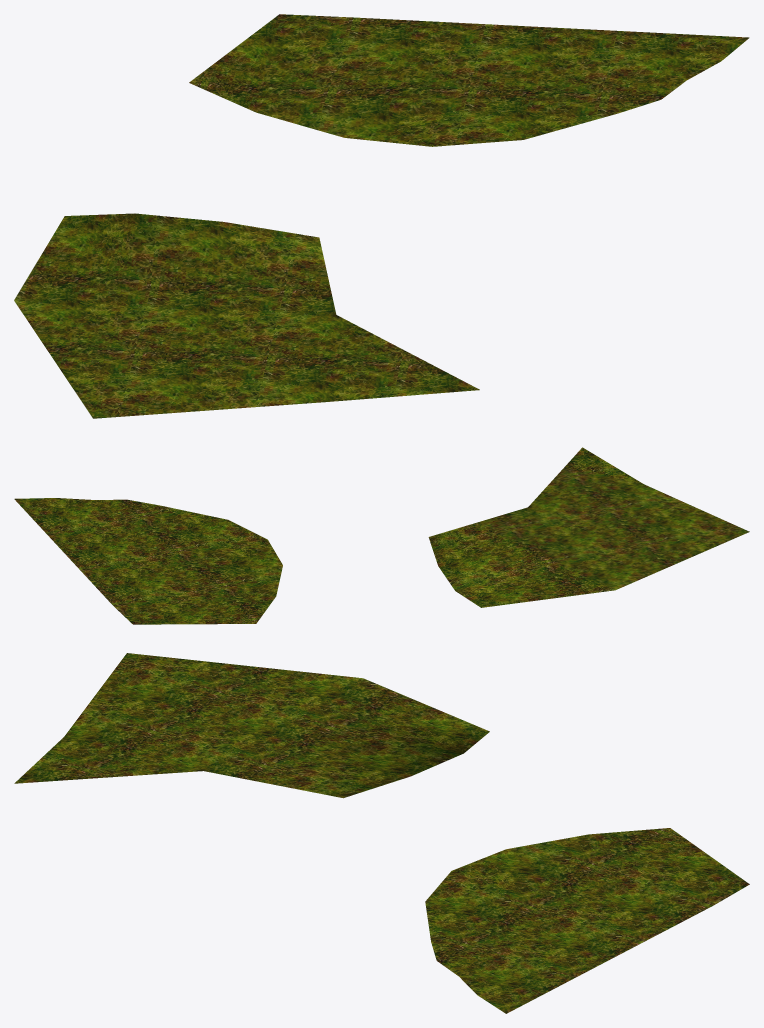
The model's file is TROLLHOLE02_ZRM_PSURF251.fbx.
3 views of the same model, one above another, from view 1: azimuth 30°, elevation 25°; view 2: azimuth 150°, elevation 25°; view 3: azimuth 270°, elevation 25° (orthographic). The views are drawn at different scales.
Parts seen in each view (by area): view 1: TROLLHOLE02_ZRM_PSURF251; view 2: TROLLHOLE02_ZRM_PSURF251; view 3: TROLLHOLE02_ZRM_PSURF251.
Part boxes in pixels (x1,y1,x2,y2): TROLLHOLE02_ZRM_PSURF251: (14, 14, 749, 418); TROLLHOLE02_ZRM_PSURF251: (14, 447, 749, 624); TROLLHOLE02_ZRM_PSURF251: (14, 653, 749, 1013).
Bounding box in the file's own units: 188763 × 791 × 162648.
1 material, 1 textured.
